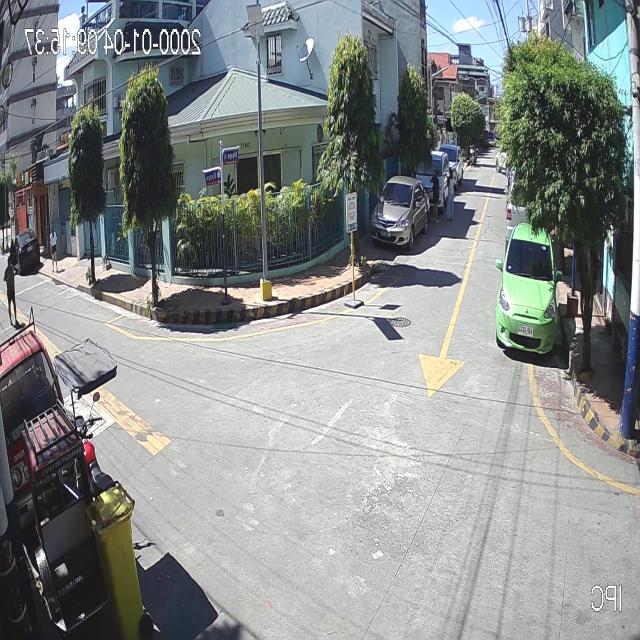standing: (428, 167, 439, 224), (444, 165, 454, 221)
walking: (2, 256, 17, 326), (50, 221, 59, 275)
